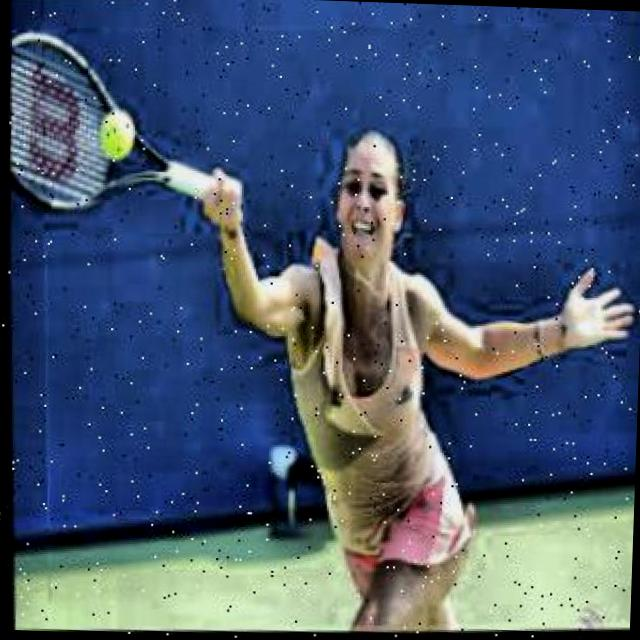tennis-ball: (96, 109, 132, 161)
